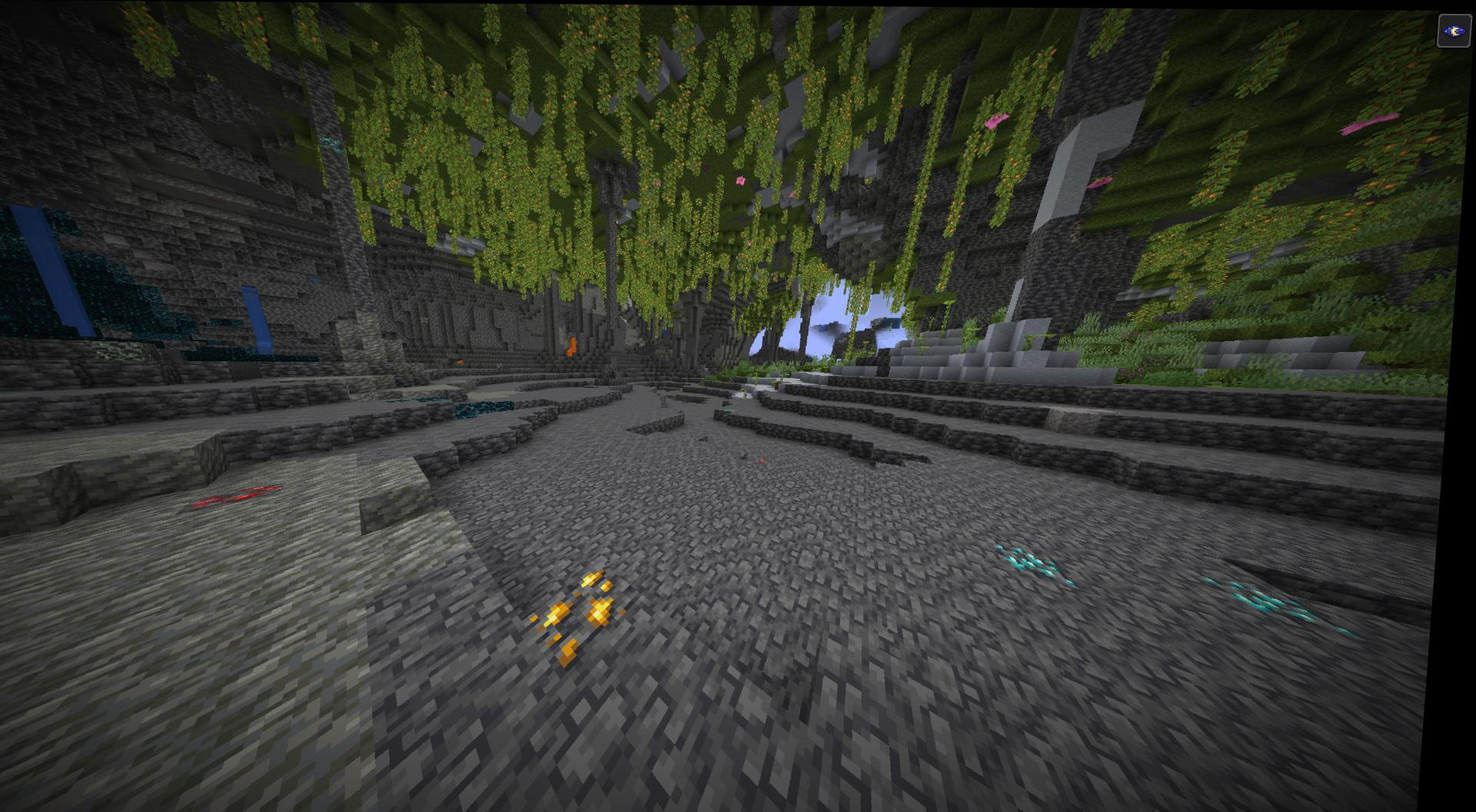diamond ore: (1210, 572, 1333, 619), (1000, 539, 1080, 585)
gold ore: (542, 564, 638, 657)
redstone ore: (194, 484, 291, 510)
